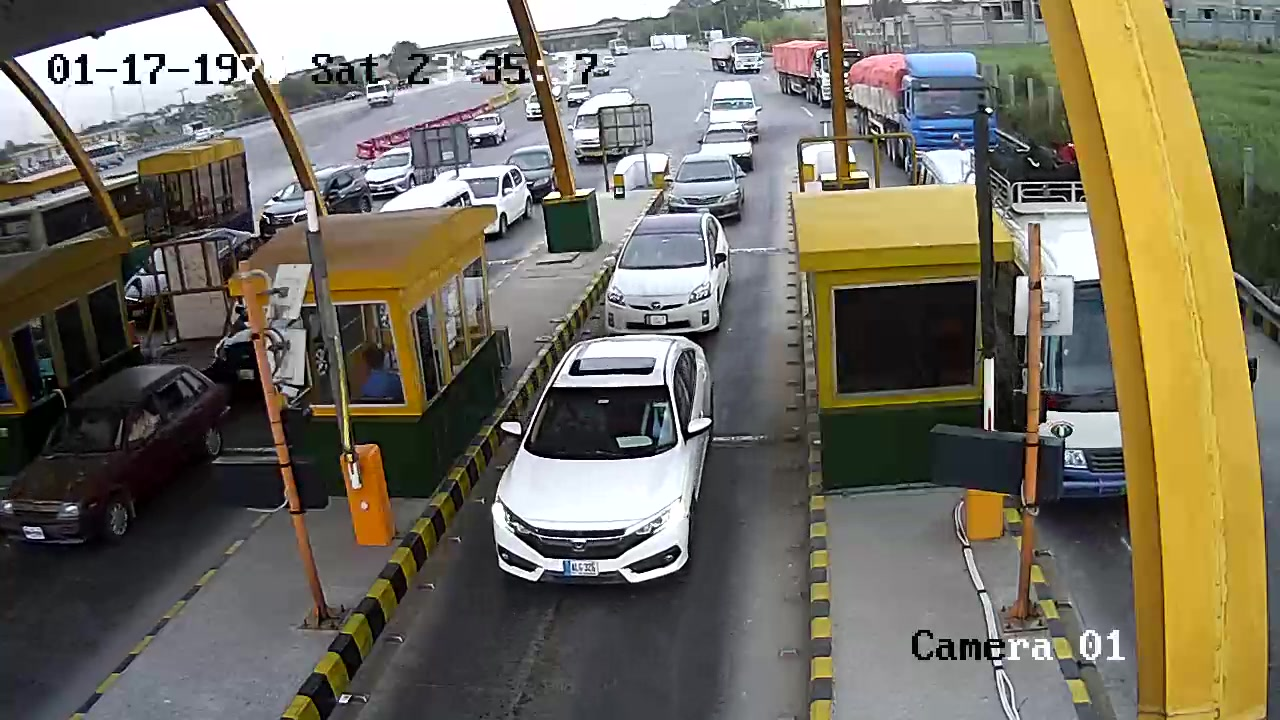F1: (484, 335, 739, 591), (599, 215, 751, 336), (666, 151, 746, 219)
